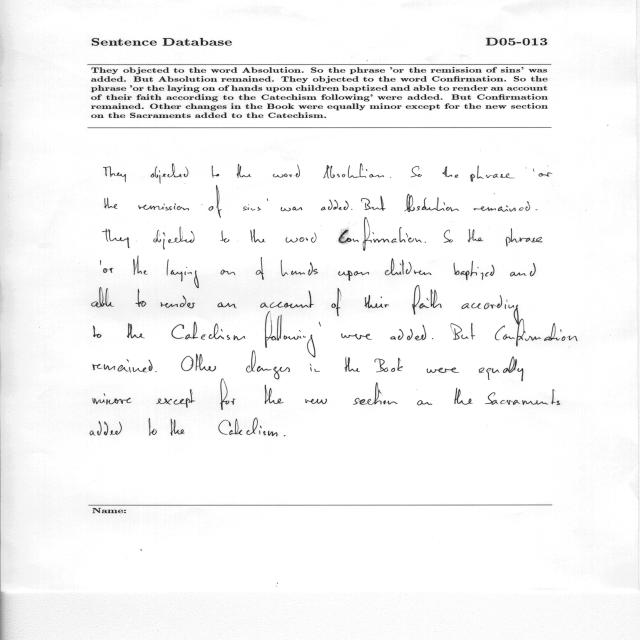word: (338, 217, 422, 251), (495, 310, 577, 341), (265, 311, 315, 357), (172, 322, 246, 341), (246, 351, 290, 379), (182, 354, 225, 382), (485, 389, 560, 405), (479, 357, 523, 382), (474, 193, 530, 212), (219, 418, 278, 436), (353, 382, 397, 405), (404, 194, 459, 212), (154, 227, 195, 250), (260, 291, 314, 308), (323, 164, 384, 179), (412, 285, 442, 315), (167, 260, 199, 288), (461, 295, 518, 310), (93, 359, 153, 373), (385, 259, 432, 276), (454, 261, 495, 280), (470, 165, 515, 182), (156, 389, 195, 408), (151, 164, 188, 184), (201, 185, 222, 218), (506, 229, 543, 247), (281, 260, 318, 276), (391, 325, 427, 340), (103, 229, 130, 248), (90, 421, 122, 436), (161, 296, 195, 309), (92, 287, 114, 307), (93, 394, 132, 405), (451, 323, 476, 340), (220, 382, 235, 410), (138, 203, 189, 211), (374, 358, 403, 372), (510, 263, 536, 277), (265, 385, 284, 404), (361, 196, 385, 211), (104, 167, 126, 183), (273, 165, 300, 178), (286, 232, 317, 243), (338, 270, 369, 281), (365, 295, 390, 308), (454, 388, 473, 405), (321, 200, 348, 211), (133, 256, 148, 275), (332, 288, 342, 316), (127, 323, 145, 338), (417, 390, 433, 406), (171, 419, 185, 436), (345, 357, 360, 372), (341, 333, 372, 340), (237, 164, 252, 178), (251, 229, 266, 243), (135, 289, 146, 307), (427, 367, 460, 373), (468, 229, 483, 242), (442, 166, 458, 178), (256, 257, 264, 280), (533, 168, 553, 177), (104, 198, 118, 209), (149, 418, 157, 436), (411, 166, 422, 177), (217, 303, 237, 309), (444, 230, 453, 243), (305, 399, 327, 404), (220, 231, 229, 243), (94, 325, 102, 338), (243, 206, 261, 211), (309, 364, 320, 372), (212, 166, 219, 178), (281, 207, 302, 211), (221, 270, 236, 275), (103, 268, 114, 273), (319, 322, 321, 327), (101, 260, 102, 265), (267, 199, 268, 201), (424, 242, 426, 243), (155, 371, 157, 372), (284, 436, 286, 437), (390, 177, 391, 178), (352, 209, 353, 210), (432, 338, 433, 339), (526, 168, 527, 168), (535, 210, 538, 210)
